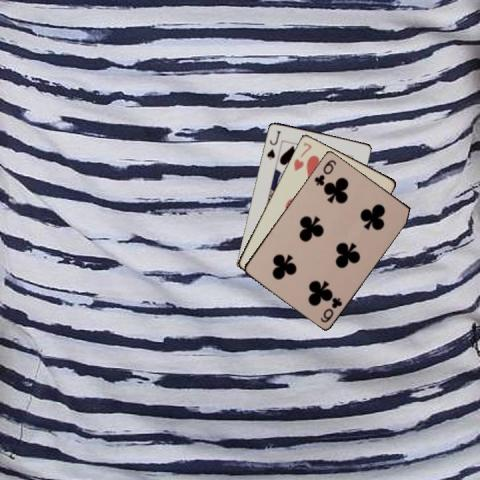6c: (311, 157, 338, 187), (318, 294, 344, 324)
7h: (290, 139, 313, 172)
Js: (263, 127, 282, 161)
